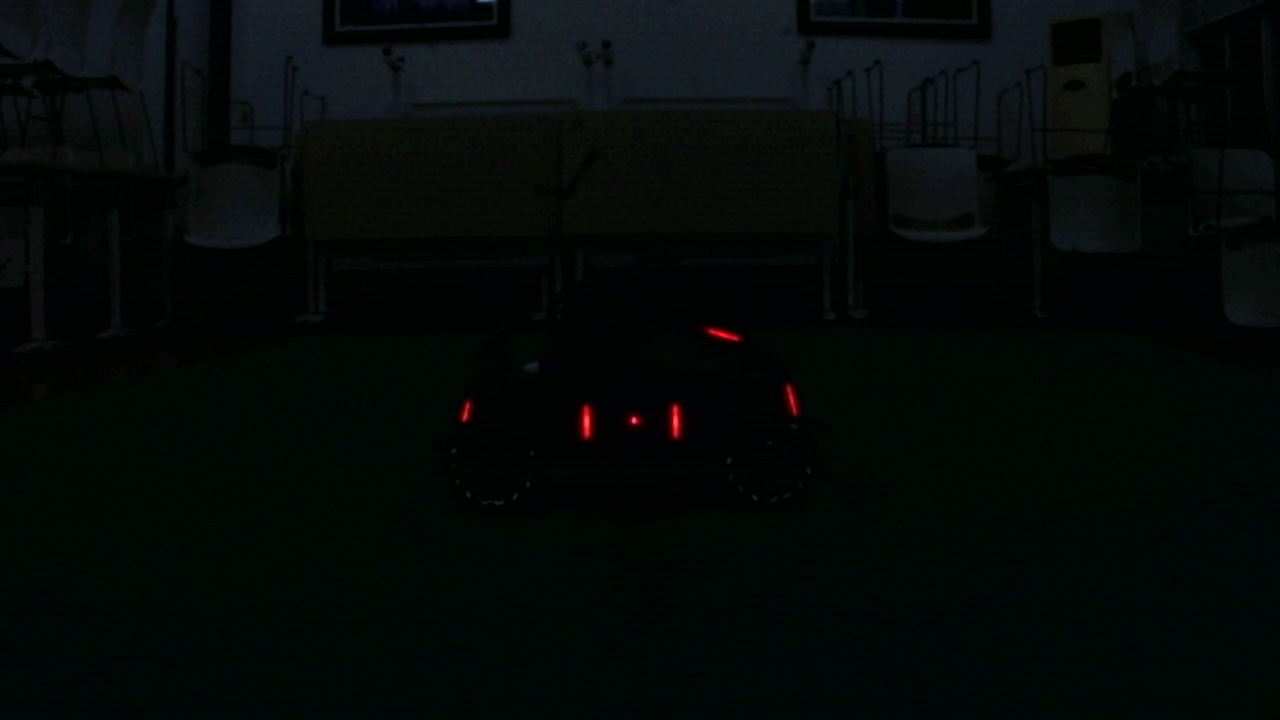lamp: (667, 400, 682, 442), (786, 380, 802, 419), (580, 399, 593, 442)
pair1: (581, 404, 681, 440)
